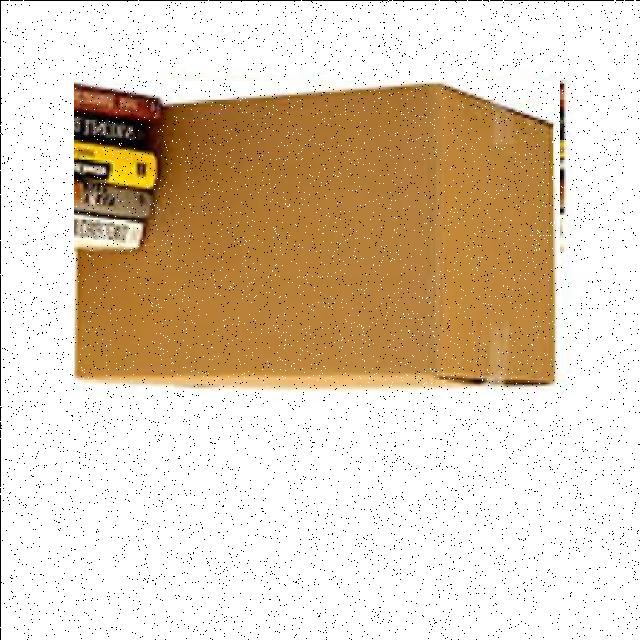normal: (72, 80, 558, 395)
